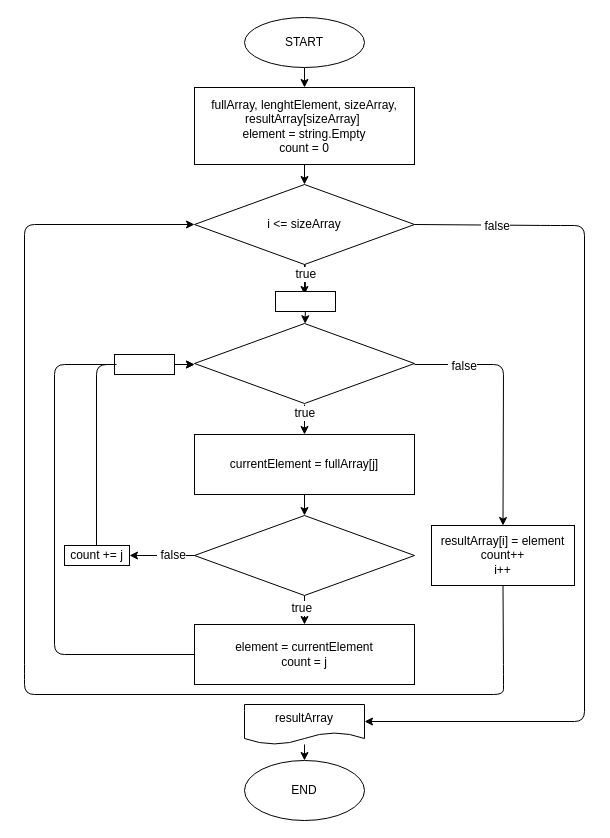
This 610x838 diagram has some shape labels left out. The shapes that lost their labels are listed below. From the top down, each one's centre as x and y in pixels, then its label:
the point at 305,301: j = count
the point at 144,364: j++
the point at 304,363: j <= size(fullArray)
the point at 304,555: siize(currentElement) <= lenghtElement
